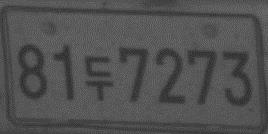1: (52, 44, 75, 102)
2: (154, 46, 188, 105)
3: (221, 50, 253, 106)
7: (186, 49, 217, 107), (117, 46, 149, 102)
8: (17, 44, 46, 100)
두: (84, 55, 115, 101)
